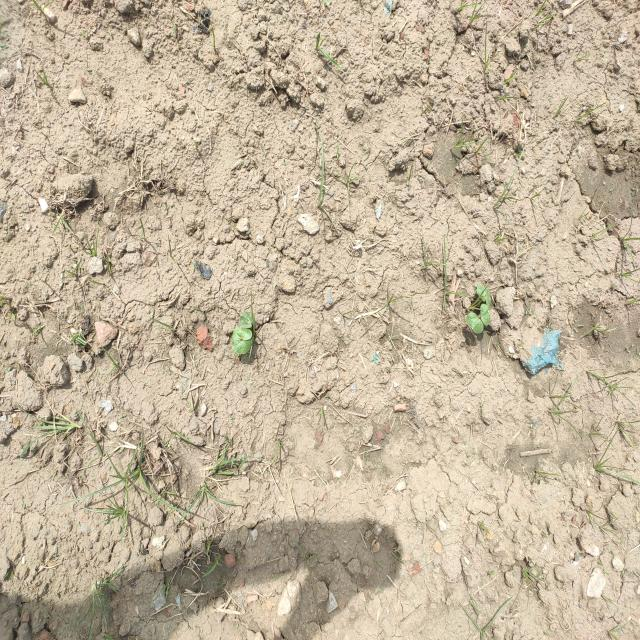seedling_s2: (466, 312, 484, 334), (231, 338, 252, 354), (233, 328, 252, 341), (480, 304, 491, 326), (242, 311, 255, 323), (477, 284, 486, 301), (240, 316, 252, 328), (485, 287, 491, 309)
